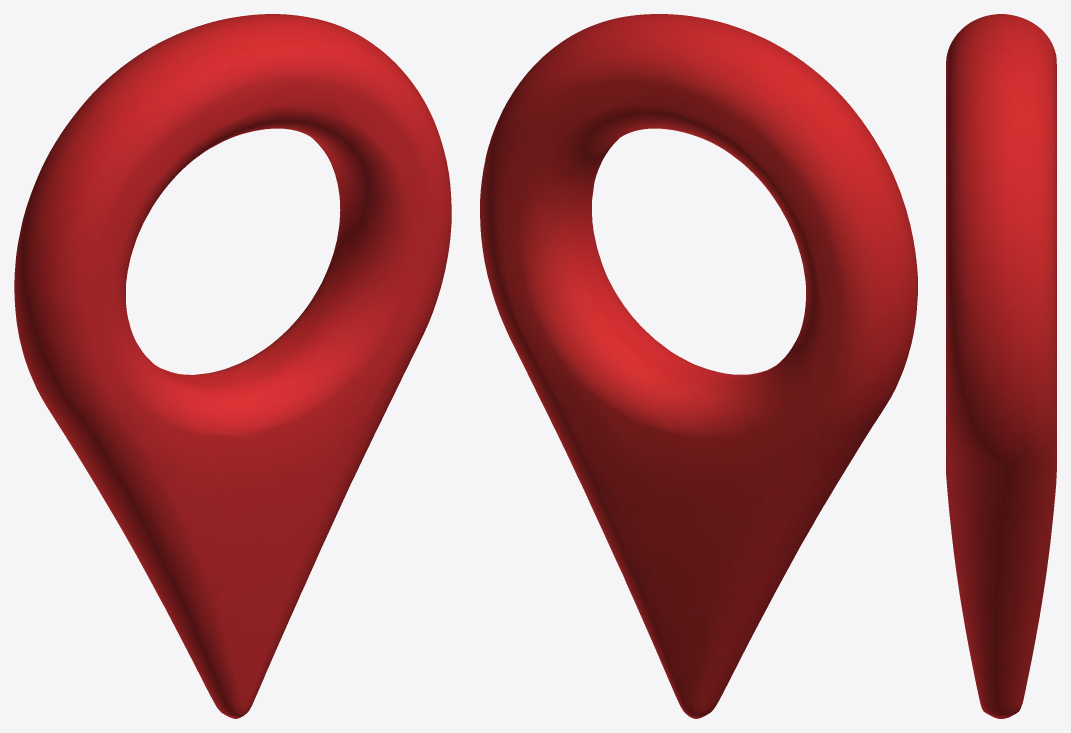
File: icon-vi-tri.glb
The picture shows the model from 3 angles, left to right: view 1: azimuth 30°, elevation 25°; view 2: azimuth 150°, elevation 25°; view 3: azimuth 270°, elevation 25°; orthographic projection.
Parts seen in each view (by area): view 1: mesh_node; view 2: mesh_node; view 3: mesh_node.
Boxes of the visible parts, <box> form: mesh_node: <box>14,14,451,718</box>; mesh_node: <box>480,14,917,718</box>; mesh_node: <box>946,14,1056,718</box>.
Bounding box in the file's own units: 19.09 × 30 × 4.44.
Materials: 1 (1 with a texture image).
